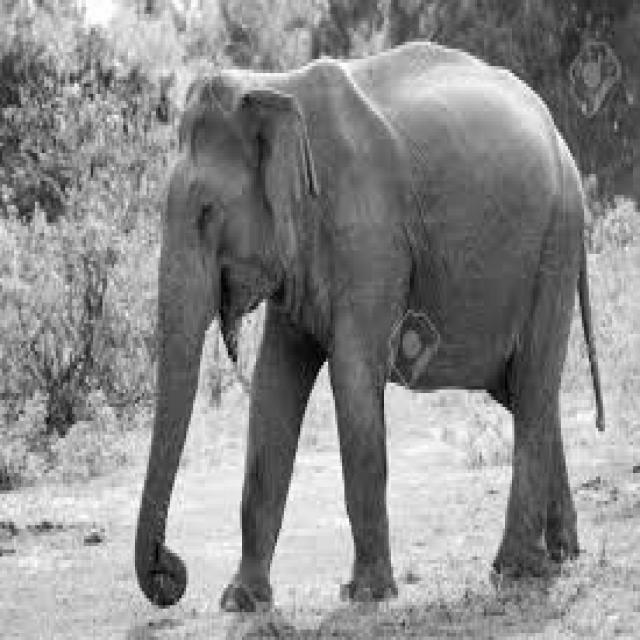Elephant: (133, 38, 605, 612)
